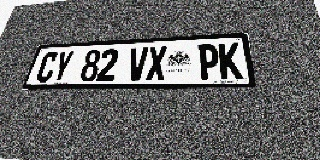2: (96, 48, 119, 82)
8: (79, 49, 102, 82)
C: (34, 52, 59, 83)
K: (218, 42, 243, 79)
P: (198, 43, 220, 80)
V: (127, 47, 149, 81)
X: (146, 46, 167, 81)
Y: (50, 51, 75, 82)
